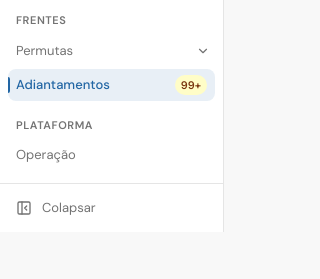
Sidebar › mantém o sub-menu recolhido fora da sub-rota e o abre no clique
expect the link "Borderôs" is not shown: met
Click the button named "Expandir Permutas" at (203, 50), box left=191, top=38, right=215, bottom=62
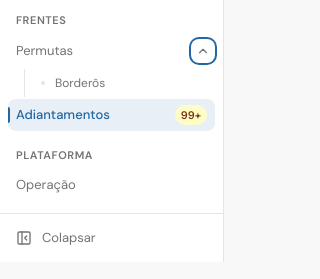
expect the link "Borderôs" is shown: met, box left=41, top=74, right=105, bottom=90
